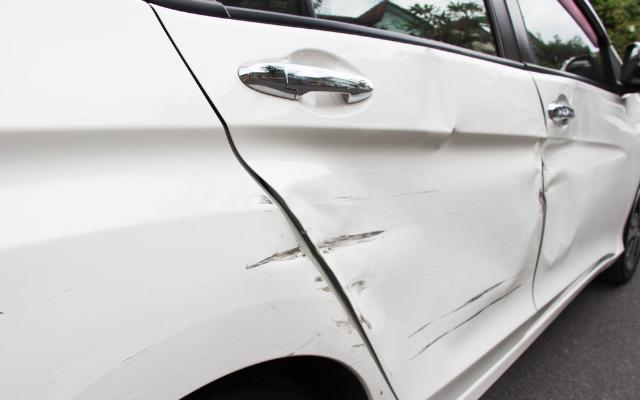dent: (295, 47, 542, 355), (541, 84, 628, 267)
scratch: (314, 275, 369, 356), (242, 244, 306, 271), (257, 194, 279, 216)
